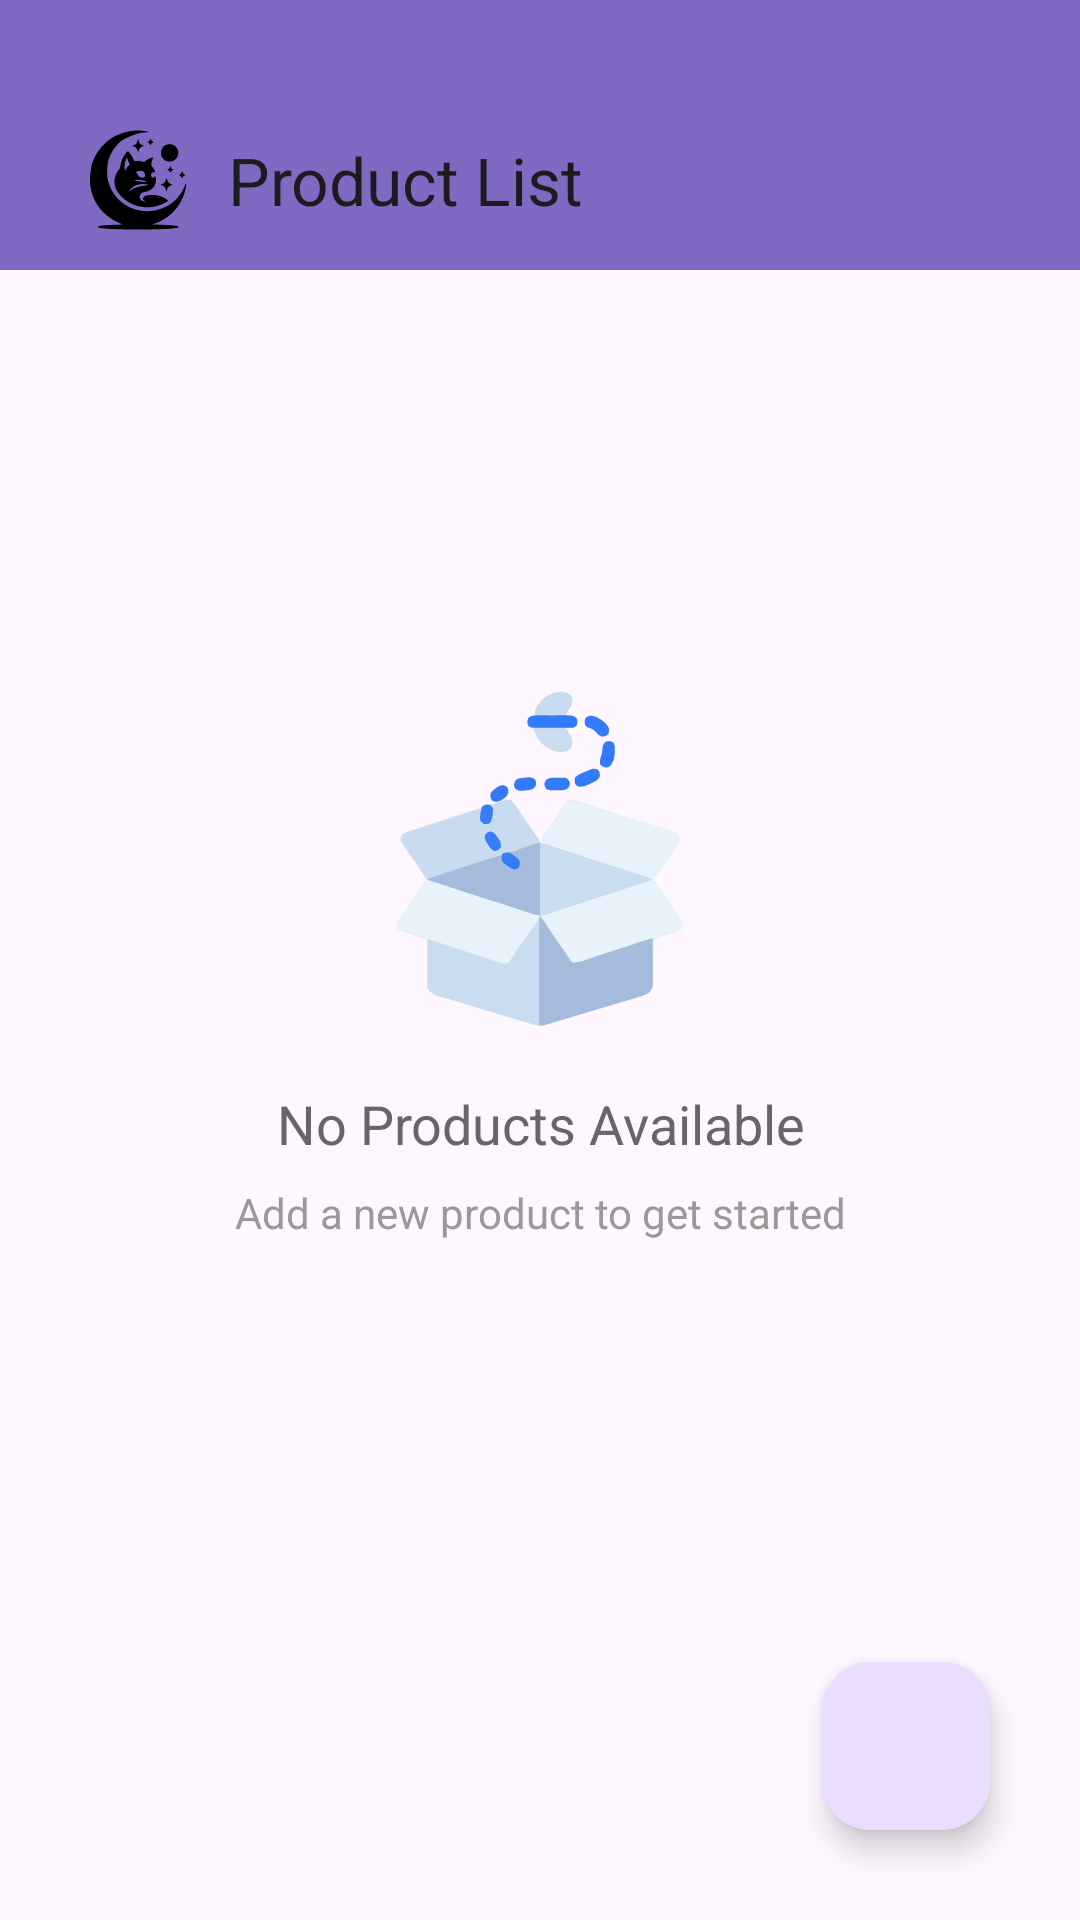

Locate icon controls on the screen. Image size 1080 x 1920, boxes as {"x1": x1, "y1": y1, "x2": x2, "y2": y2}.
box: {"x1": 398, "y1": 692, "x2": 683, "y2": 1026}
